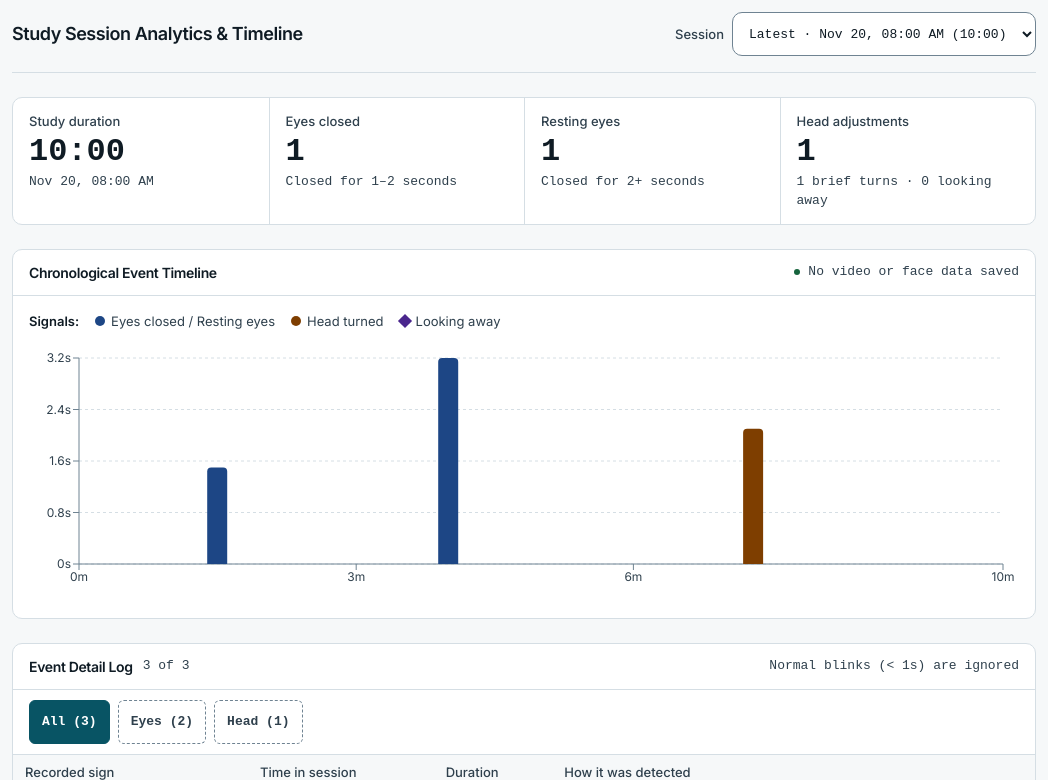
SessionSummaryView Component › allows toggling event category filters in the table for saved sessions
Step 1. Click the button "Head (1)" → click(258, 722), box [214, 700, 302, 744]
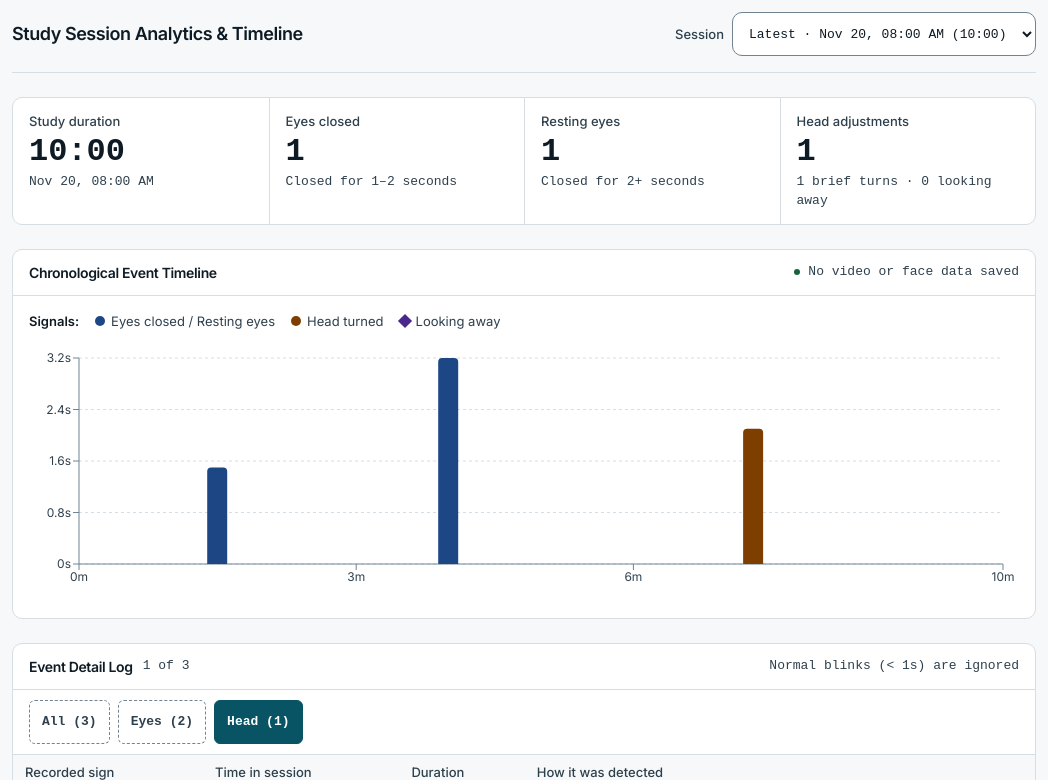
Now the text "1 of 3" is shown, box [143, 657, 189, 676]
